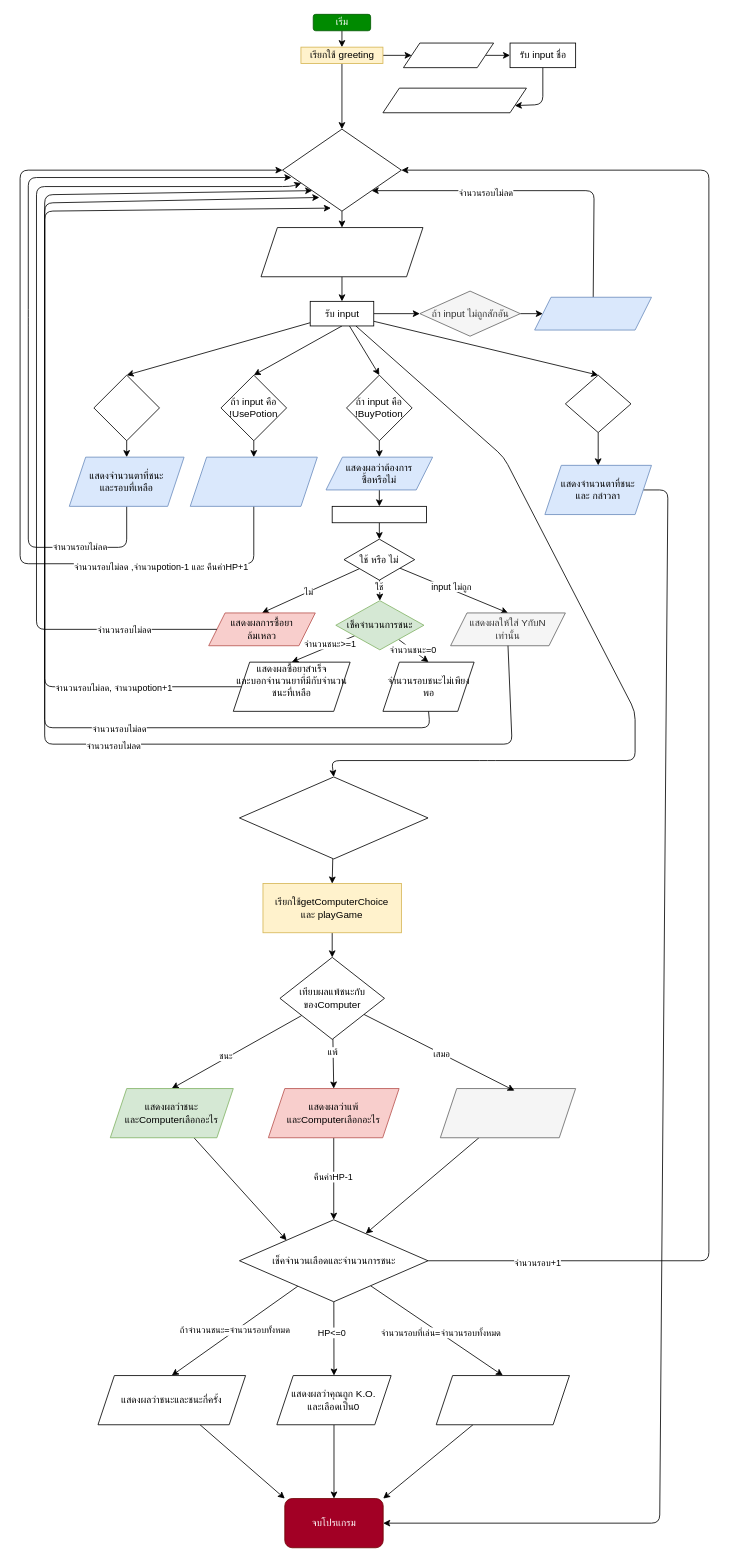
This 730x1562 diagram has some shape labels left out. Here are the shapes that lost their labels. From the top down, the box of each, then its label:
(403, 42, 494, 68): แสดงผลต้อนรับ
(382, 87, 526, 113): ทักทายและอธิบายกฏการเล่น
(282, 128, 401, 211): วนลูป
(260, 227, 423, 277): แสดงผลจำนวนรอบและเลือดที่มี
(534, 296, 651, 330): แสดงผล Invalid input
(93, 374, 159, 441): ถ้า input คือ !winscore
(565, 374, 631, 433): ถ้า input คือ !exit
(189, 456, 317, 506): แสดงผลว่าเลือดเพิ่มขึ้น1 กับยาที่เหลือ
(331, 506, 426, 523): รับinput Y หรือ N
(239, 776, 428, 859): ถ้า input คือ Defense,Light Attack และ Heavy Attack
(440, 1088, 576, 1138): แสดงผลว่าเสมอ และComputerเลือกอะไร
(435, 1375, 569, 1425): แสดงผลว่าชนะจากจำนวนทั้งหมดกี่รอบ
